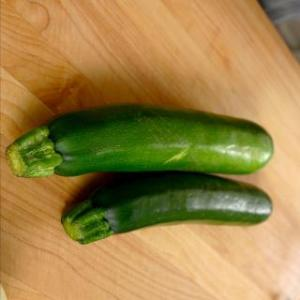zucchini: (6, 97, 286, 187)
